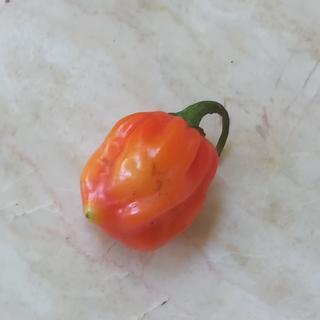Grade-B: (71, 101, 224, 253)
